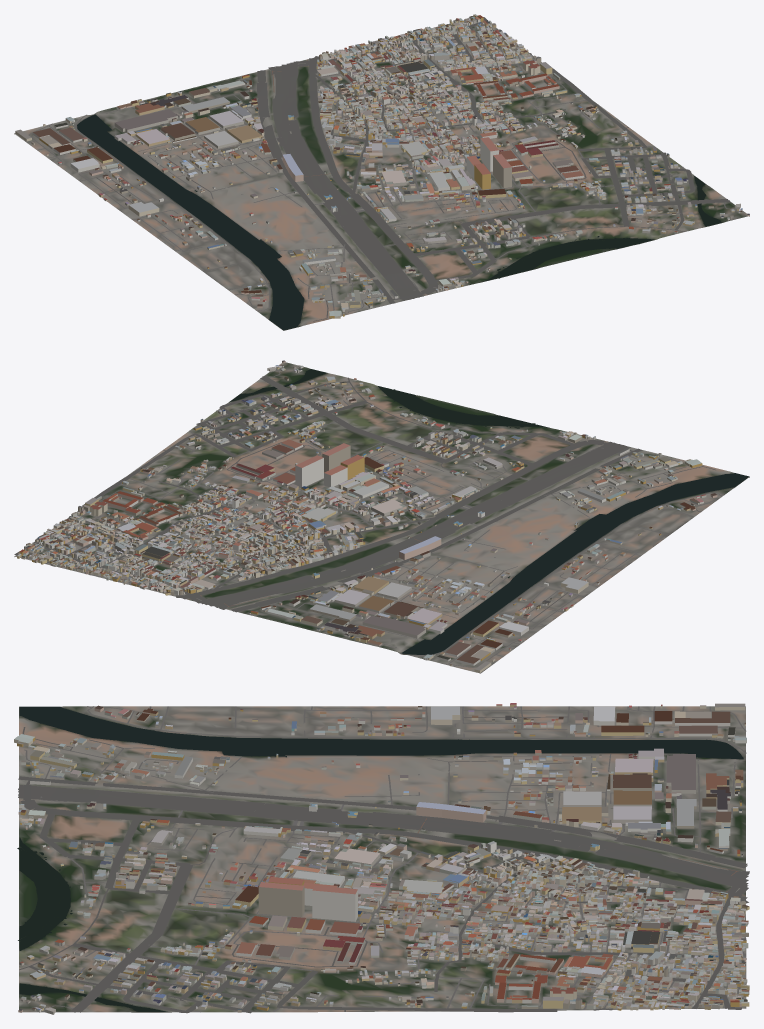
3 views of the same model, one above another, from view 1: azimuth 30°, elevation 25°; view 2: azimuth 150°, elevation 25°; view 3: azimuth 270°, elevation 25° (orthographic). The views are drawn at different scales.
Visible parts, largest first — view 1: ground, buildings, roads, water; view 2: ground, buildings, roads, water; view 3: ground, buildings, roads, water.
Part boxes in pixels (x1,y1,x2,y2): ground: (14, 20, 749, 330); buildings: (15, 14, 749, 318); roads: (27, 17, 736, 321); water: (77, 114, 721, 330); ground: (14, 362, 749, 673); buildings: (17, 360, 717, 672); roads: (14, 369, 724, 667); water: (229, 369, 748, 654); ground: (19, 706, 746, 1012); buildings: (14, 703, 749, 1014); roads: (18, 706, 749, 1013); water: (17, 706, 743, 1011).
Size of the model in its own units: 1413 by 66.04 by 1418.
